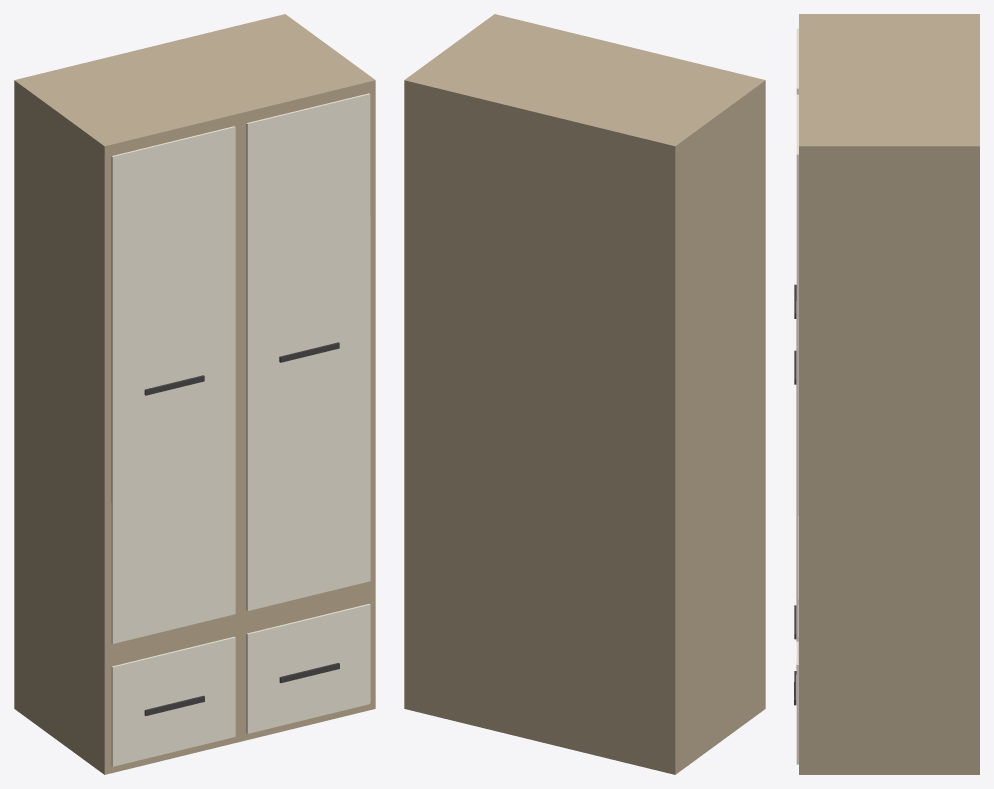
The model's file is Childroom2_cupboard.fbx.
3 renders of one model, left to right at view 1: azimuth 30°, elevation 25°; view 2: azimuth 150°, elevation 25°; view 3: azimuth 270°, elevation 25°, orthographic.
Parts seen in each view (by area): view 1: Childroom2_cupboard; view 2: Childroom2_cupboard; view 3: Childroom2_cupboard.
Boxes of the visible parts, x1,y1,x2,y2 form: Childroom2_cupboard: (14, 14, 375, 774); Childroom2_cupboard: (404, 14, 765, 774); Childroom2_cupboard: (794, 14, 979, 774).
Bounding box in the file's own units: 138 × 82.03 × 306.
